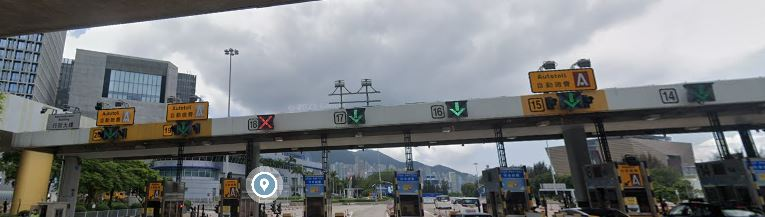Autotoll: (527, 65, 601, 94), (165, 99, 209, 122), (94, 108, 137, 127)
